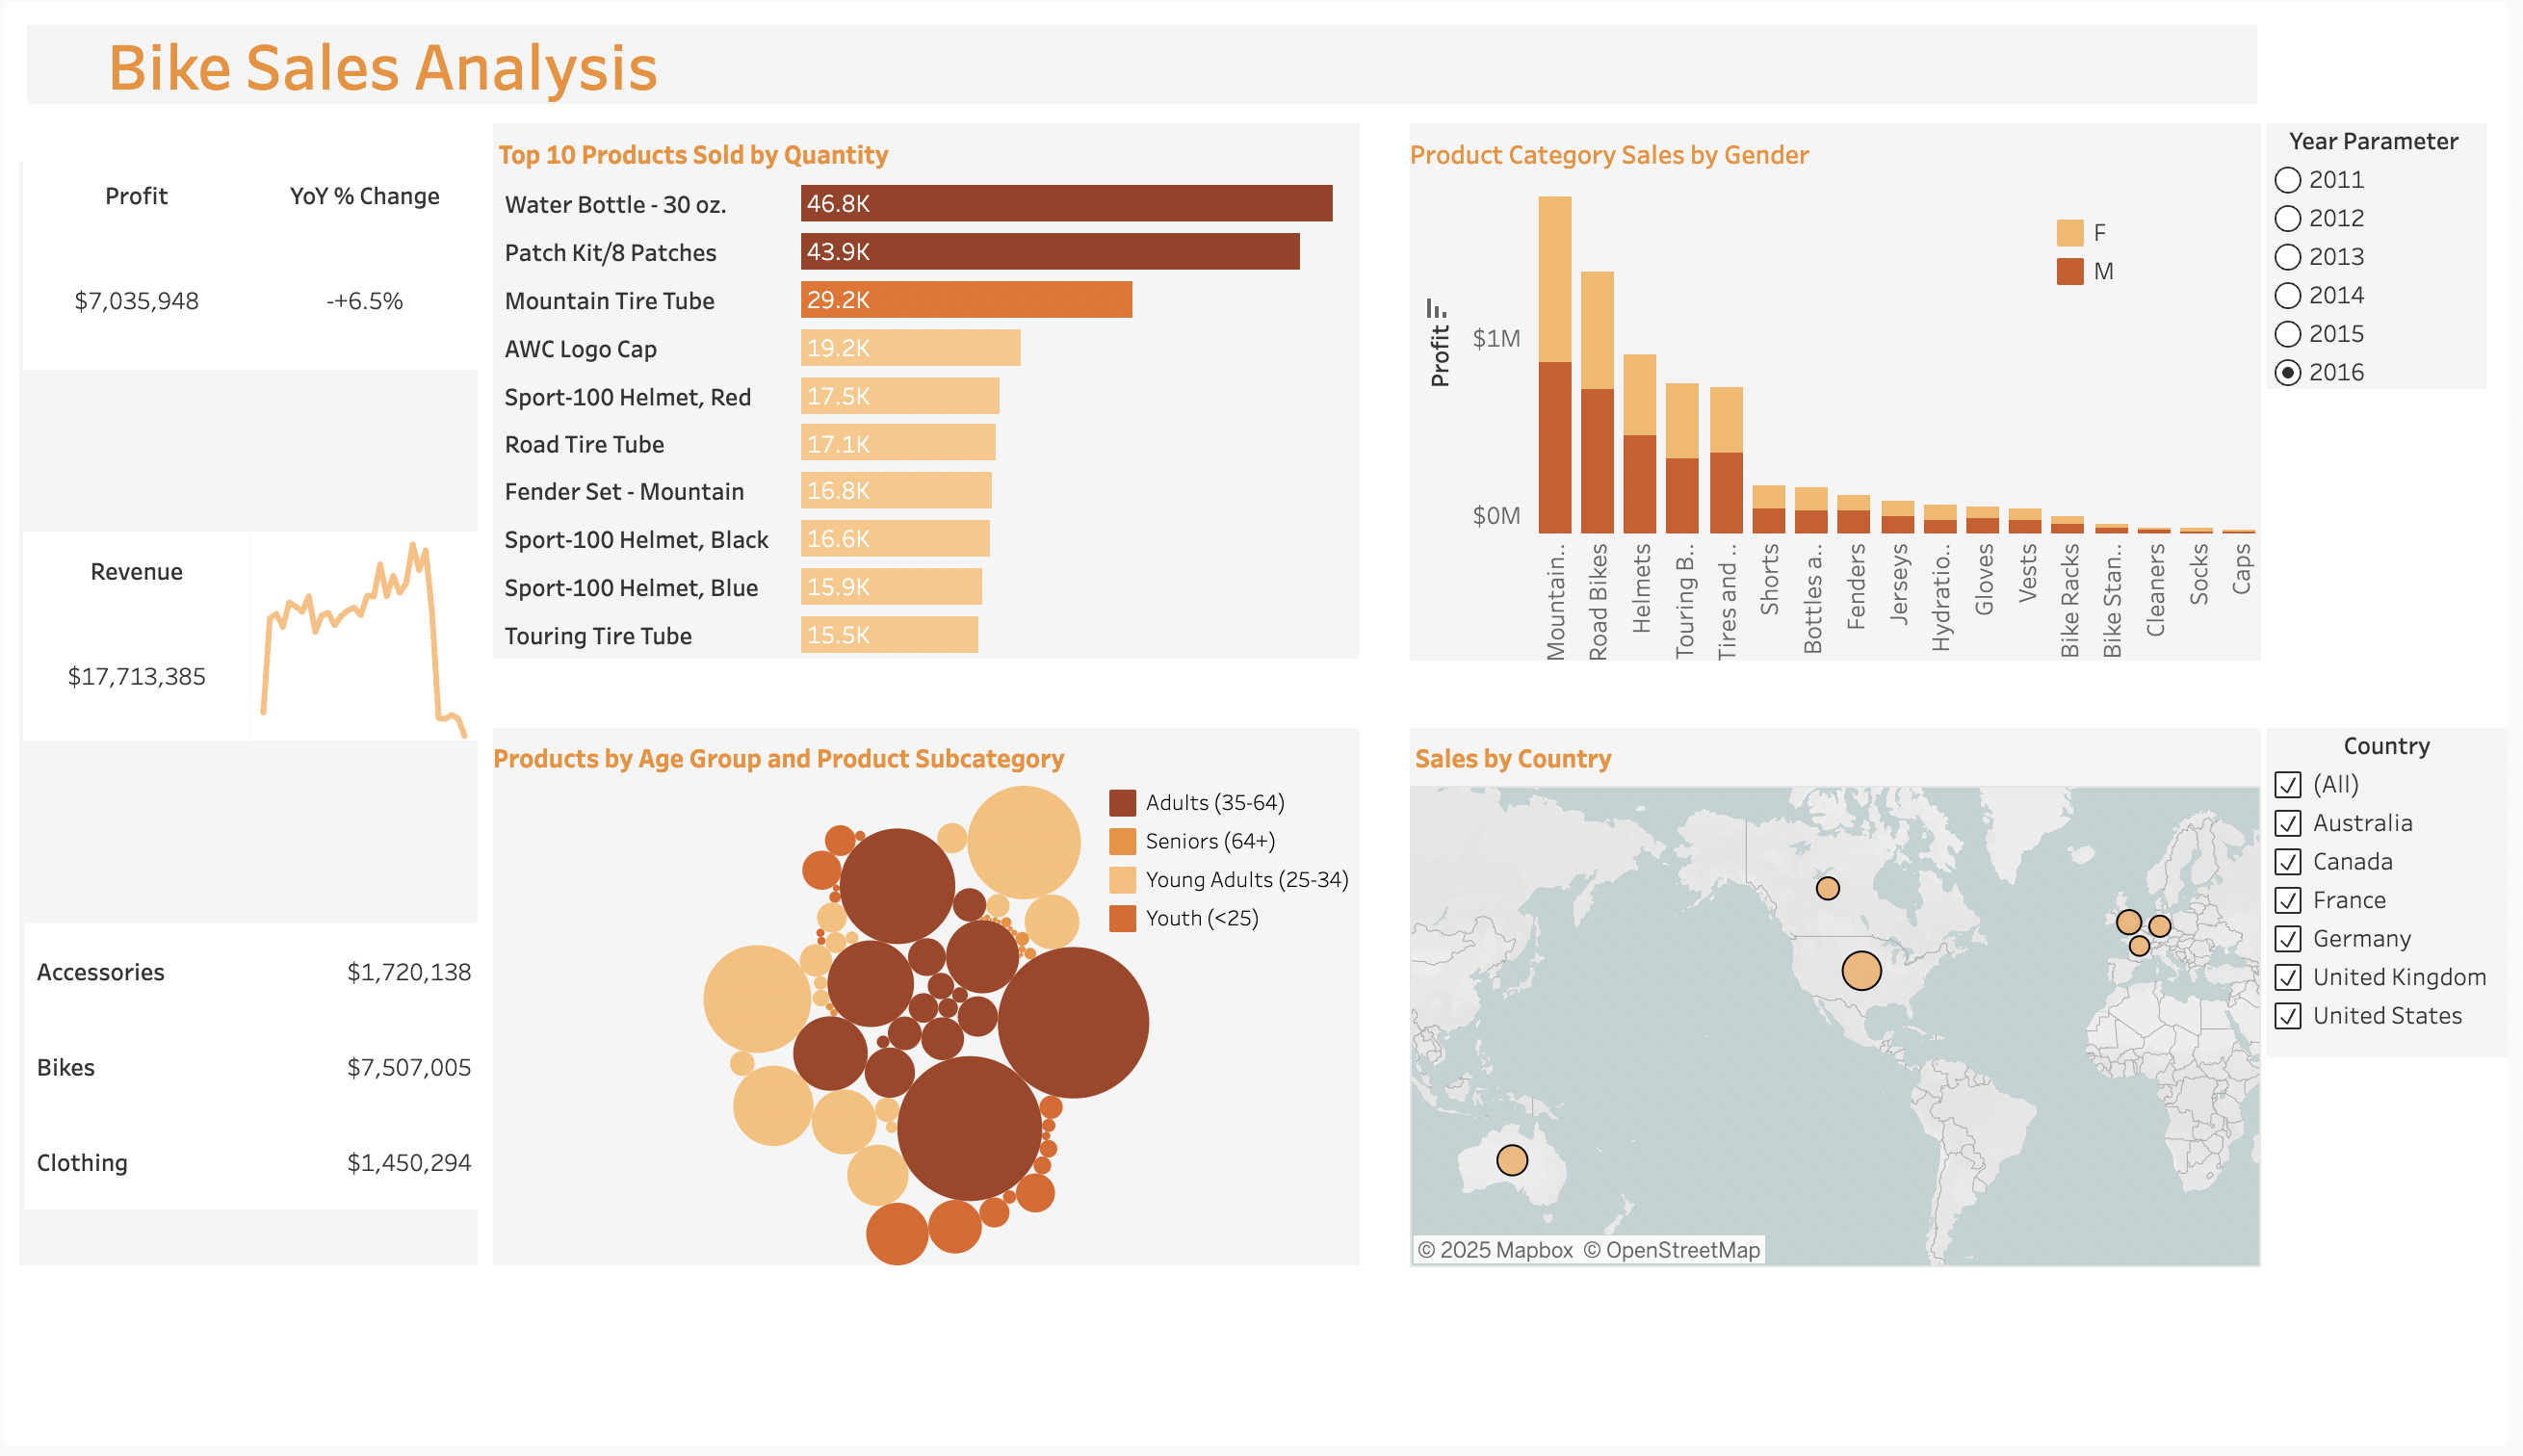

What the dashboard file says about the page in this screenshot:
{"tool":"tableau","page":{"name":"Bike Sales Dashboard","canvas":[1300,750],"ordinal":0},"visuals":[{"type":"title","box":[8,8,1166,49]},{"type":"blank","box":[8,57,1166,685]},{"type":"text","box":[254,63,450,31]},{"type":"text","box":[730,63,442,31]},{"type":"parameter","param":"[Parameters].[Parameter 1]","box":[1175,63,114,138]},{"type":"worksheet","title":"Profit Card","mark":"Automatic","cols":["Calculation_946600386631159809"],"box":[10,82.1,117.9,108.9]},{"type":"worksheet","title":"YoY % change","mark":"Automatic","cols":["Calculation_946600386635194375"],"box":[127.9,82.1,118.9,108.9]},{"type":"worksheet","title":"Top 10 Products","mark":"Bar","rows":["Product"],"box":[254,92,450,249]},{"type":"worksheet","title":"Sub Category Bar Chart","mark":"Automatic","rows":["Profit"],"cols":["Sub_Category"],"box":[730,92,442,250]},{"type":"legend","title":"Sub Category Bar Chart","param":"[federated.01sri0p02e0912140nq9t0uyowcr].[none:Customer_Gender:nk]","box":[1063.2,109.8,120.9,55.4]},{"type":"worksheet","title":"Revenue Card","mark":"Automatic","cols":["Calculation_970736865897320448"],"box":[10,274.9,117.9,108.9]},{"type":"worksheet","title":"Revenue Line Chart","mark":"Automatic","rows":["Revenue"],"cols":["Date"],"box":[127.9,274.9,117.9,108.9]},{"type":"text","box":[254,377,450,30]},{"type":"text","box":[730,377,442,30]},{"type":"filter","title":"Age Group Bubble Chart","param":"[federated.01sri0p02e0912140nq9t0uyowcr].[none:Country:nk]","box":[1175,377,125,171]},{"type":"legend","title":"Age Group Bubble Chart","param":"[federated.01sri0p02e0912140nq9t0uyowcr].[none:Age_Group:nk]","box":[571,406,137,92]},{"type":"worksheet","title":"Age Group Bubble Chart","mark":"Circle","box":[254,407,450,249]},{"type":"worksheet","title":"Map","mark":"Automatic","box":[730,407,442,250]},{"type":"worksheet","title":"Cost Card","mark":"Automatic","rows":["Product_Category"],"box":[11,477.9,235.8,149.4]}]}

Visuals, with their boxes in screenshot pixels (x1, y1, x2, y2), scaled from the page's 1300x750 canvas onto the 2523x1456 screenshot:
title: bbox=(15, 15, 2278, 111)
blank: bbox=(15, 111, 2278, 1441)
text: bbox=(493, 122, 1366, 183)
text: bbox=(1417, 122, 2275, 183)
parameter: bbox=(2280, 122, 2502, 390)
"Profit Card" worksheet: bbox=(19, 160, 248, 371)
"YoY % change" worksheet: bbox=(248, 160, 479, 371)
"Top 10 Products" worksheet (Bar marks): bbox=(493, 178, 1366, 662)
"Sub Category Bar Chart" worksheet: bbox=(1417, 178, 2275, 663)
"Sub Category Bar Chart" legend: bbox=(2064, 213, 2298, 321)
"Revenue Card" worksheet: bbox=(19, 533, 248, 745)
"Revenue Line Chart" worksheet: bbox=(248, 533, 477, 745)
text: bbox=(493, 732, 1366, 791)
text: bbox=(1417, 732, 2275, 791)
"Age Group Bubble Chart" filter: bbox=(2280, 732, 2522, 1064)
"Age Group Bubble Chart" legend: bbox=(1108, 788, 1374, 967)
"Age Group Bubble Chart" worksheet (Circle marks): bbox=(493, 791, 1366, 1273)
"Map" worksheet: bbox=(1417, 791, 2275, 1276)
"Cost Card" worksheet: bbox=(21, 927, 479, 1218)
